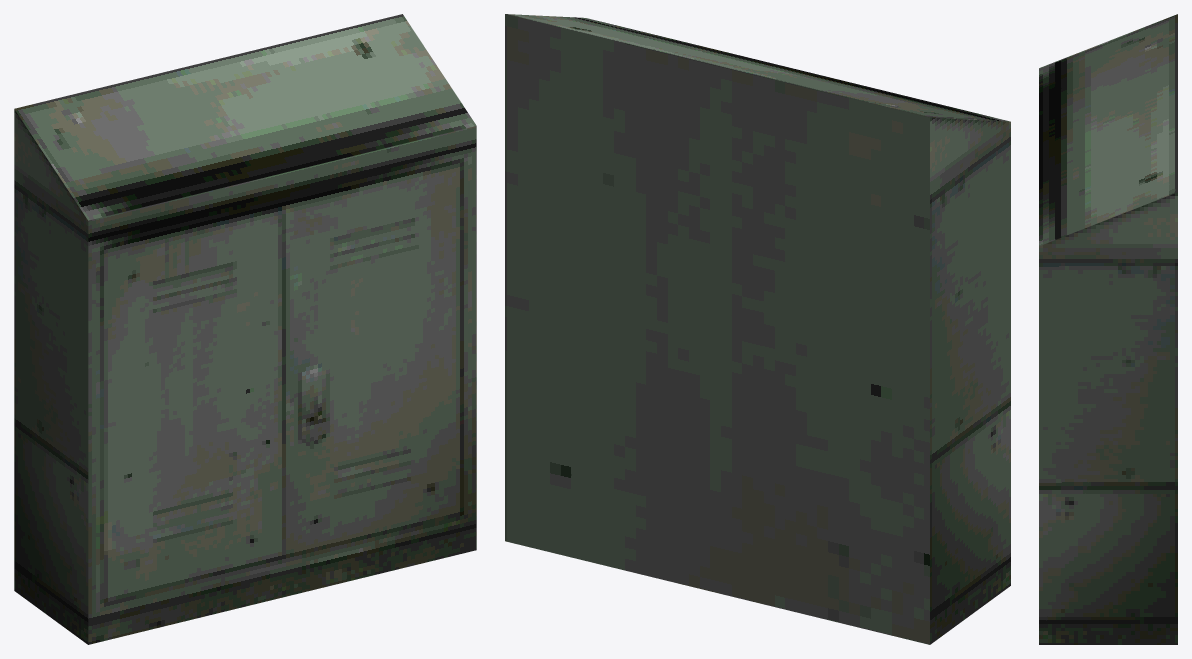
The model's file is metal_cabinet_1.glb.
3 views of the same model, side by side, from view 1: azimuth 30°, elevation 25°; view 2: azimuth 150°, elevation 25°; view 3: azimuth 270°, elevation 25° (orthographic). The views are drawn at different scales.
Visible parts, largest first — view 1: Metal_cabinet_1; view 2: Metal_cabinet_1; view 3: Metal_cabinet_1.
Boxes of the visible parts, box(x1,y1,x2,y2) form: Metal_cabinet_1: box(14, 14, 476, 644); Metal_cabinet_1: box(505, 14, 1010, 644); Metal_cabinet_1: box(1039, 14, 1177, 644).
Size of the model in its own units: 1.21 by 1.44 by 0.3996.
Materials: 1 (1 with a texture image).
